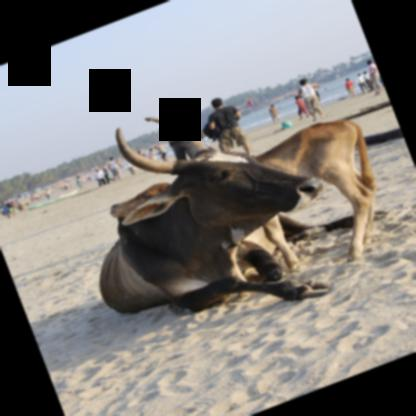backpack: (164, 112, 185, 141)
